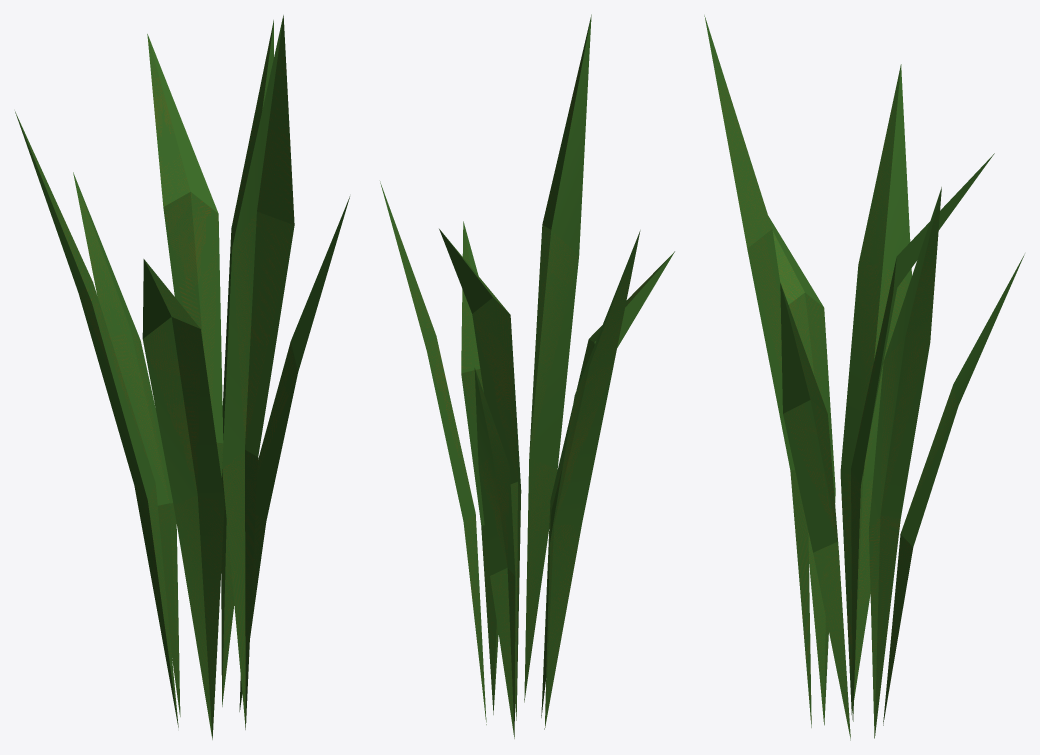
Rendered from Plant_08_LOD1.fbx.
3 renders of one model, left to right at view 1: azimuth 30°, elevation 25°; view 2: azimuth 150°, elevation 25°; view 3: azimuth 270°, elevation 25°, orthographic. The views are drawn at different scales.
Visible parts, largest first — view 1: polySurface128; view 2: polySurface128; view 3: polySurface128.
Part boxes in pixels (box(x1,y1,x2,y2)): polySurface128: box(15, 15, 349, 739); polySurface128: box(380, 14, 674, 738); polySurface128: box(704, 15, 1024, 740).
Size of the model in its own units: 120 by 314 by 128.
